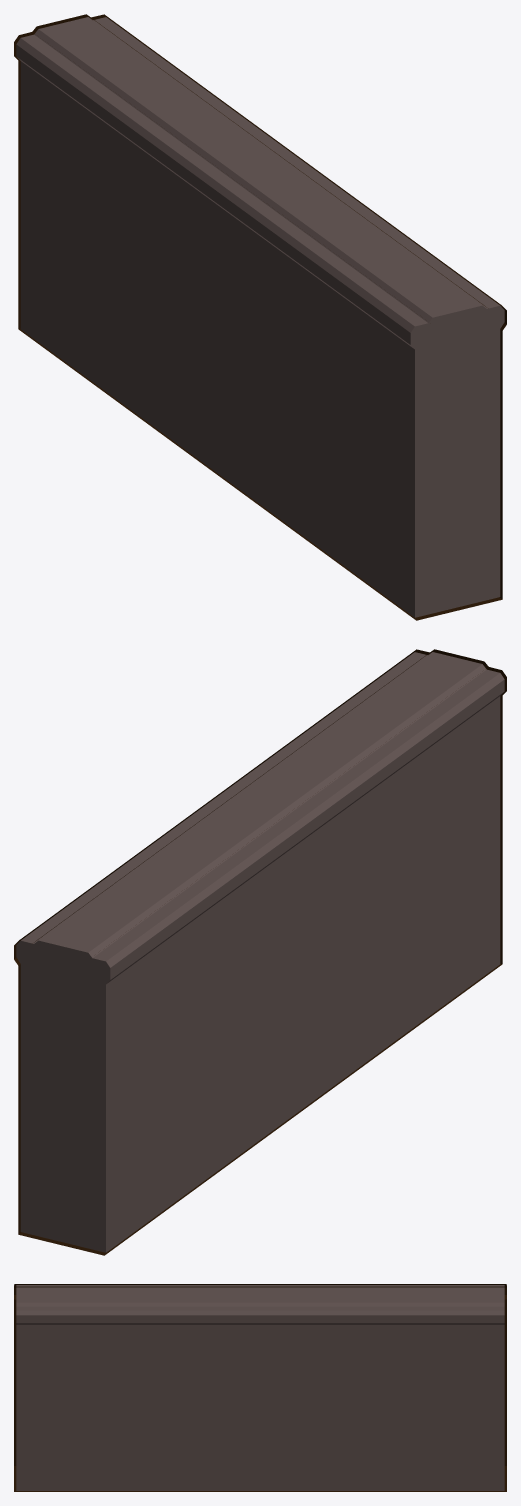
The model's file is Main_Wall_v005(Outline).fbx.
3 renders of one model, top to bottom at view 1: azimuth 30°, elevation 25°; view 2: azimuth 150°, elevation 25°; view 3: azimuth 270°, elevation 25°, orthographic. The views are drawn at different scales.
Visible parts, largest first — view 1: wall; view 2: wall; view 3: wall.
Part boxes in pixels (box(x1,y1,x2,y2)): wall: box(14, 14, 506, 620); wall: box(14, 649, 506, 1255); wall: box(14, 1284, 506, 1491).
Bounding box in the file's own units: 2.22 × 6.67 × 16.14.
